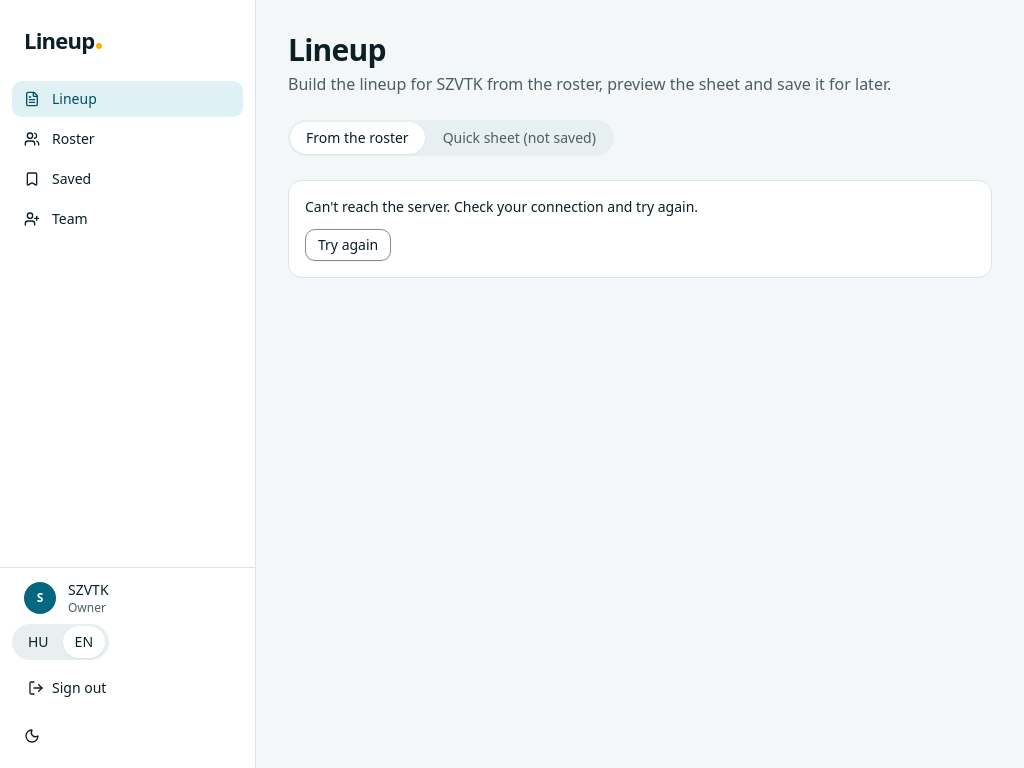
Test case: AppShell › signs out from the sidebar and from the mobile header
This screenshot has width=1024, height=768.
Click the button "Sign out". click: click(128, 688)
box: [12,668,243,708]
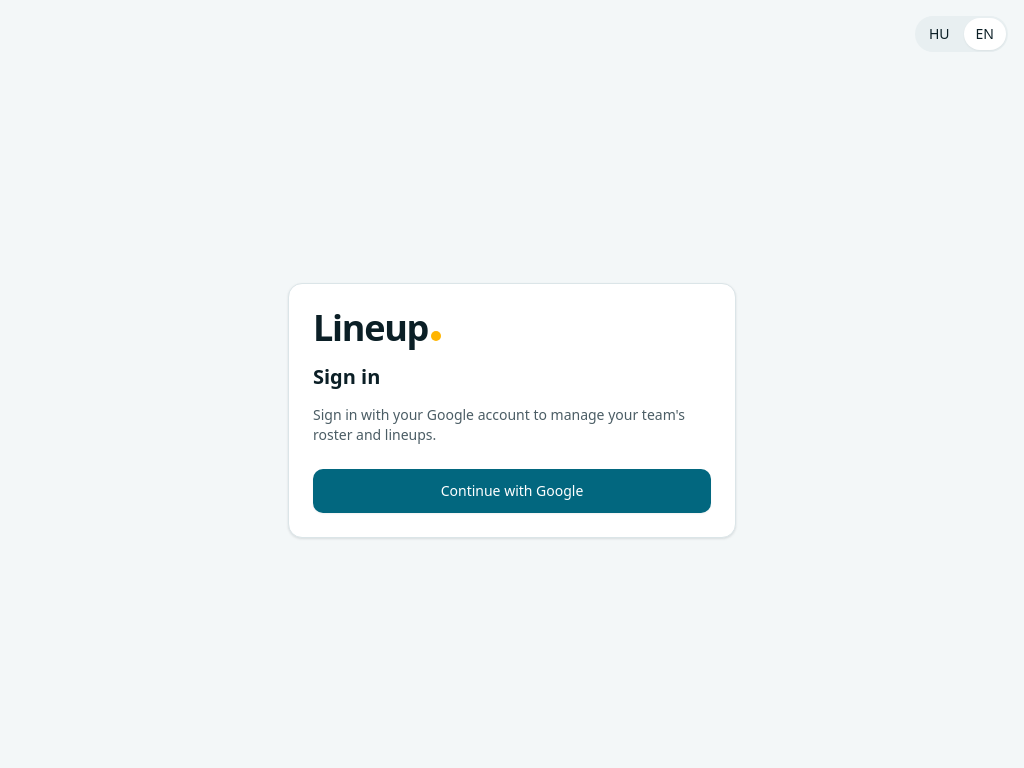
Now the heading "Sign in" is shown, box [313,362,380,390]
